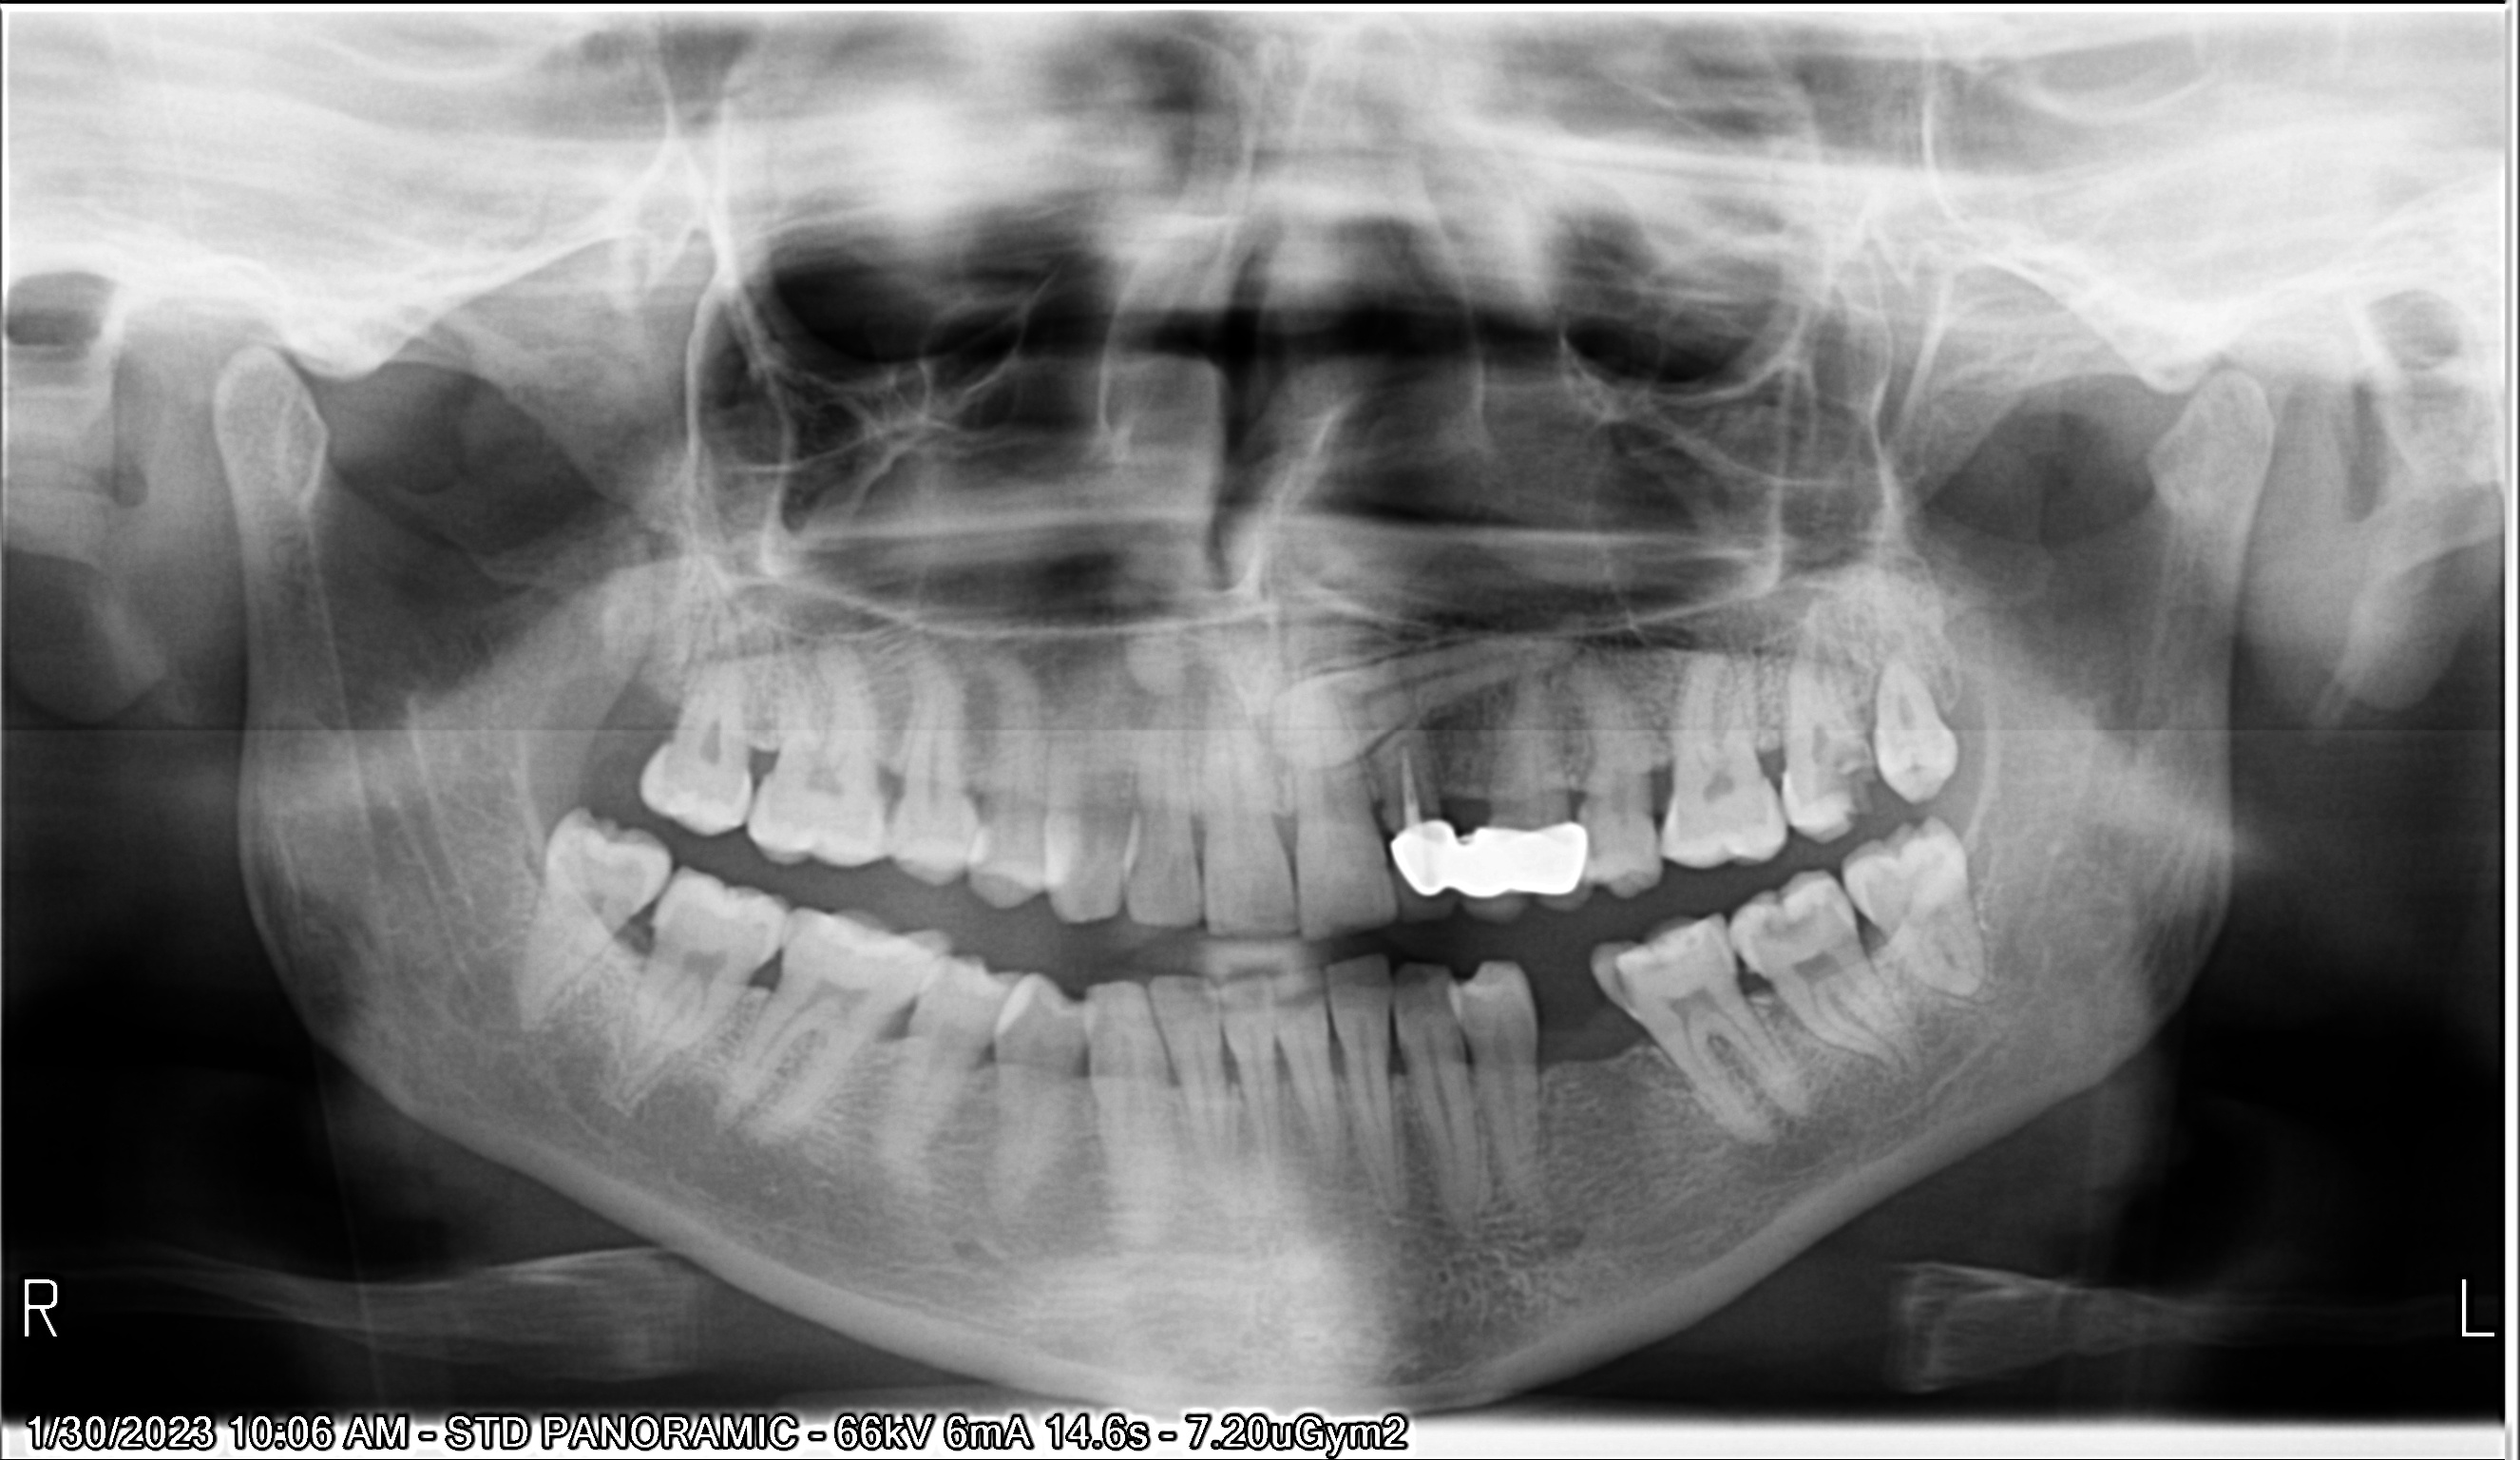CAR: (1782, 735, 1891, 831), (1747, 881, 1837, 951), (1577, 952, 1671, 1017)
IMT: (1231, 570, 1645, 794)
PRR: (1363, 794, 1605, 921)
